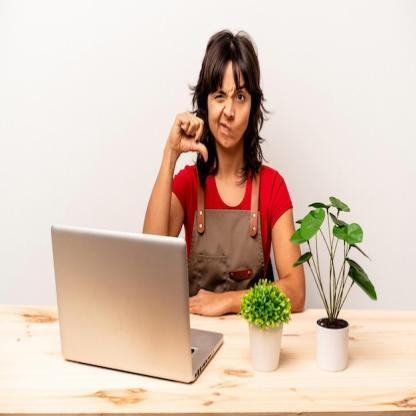thumb_down: (170, 106, 211, 166)
